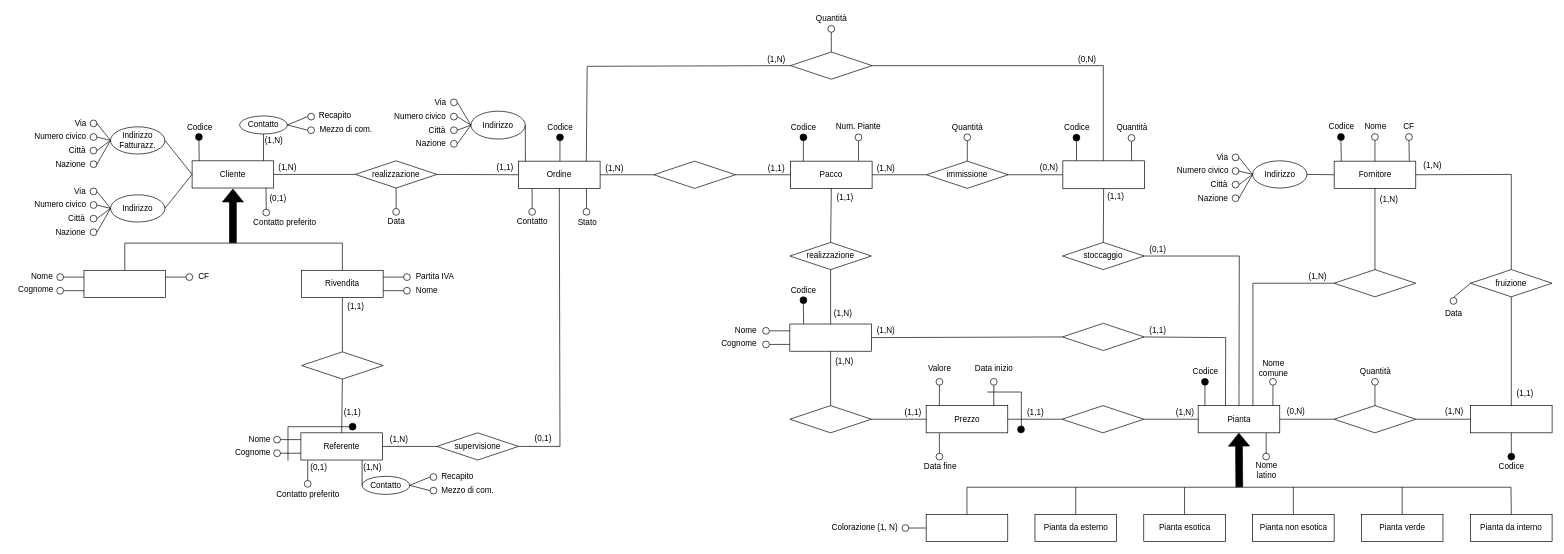
The diagram is 1564 pixels wide and 554 high, and some of its shapes have lost their labels. Each missing label, with the centre of its shape:
aggregazione: the point at 694,174
Cliente privato: the point at 124,284
composizione: the point at 1374,419
decisione: the point at 830,419
Fornitura: the point at 1511,419
gestione: the point at 1103,337
Giacenza: the point at 1103,174
inizializzazione: the point at 831,65
Manager: the point at 830,337
Pianta fiorita: the point at 966,528
rappresentazione: the point at 342,365
trattazione: the point at 1374,283
valutazione: the point at 1102,419
